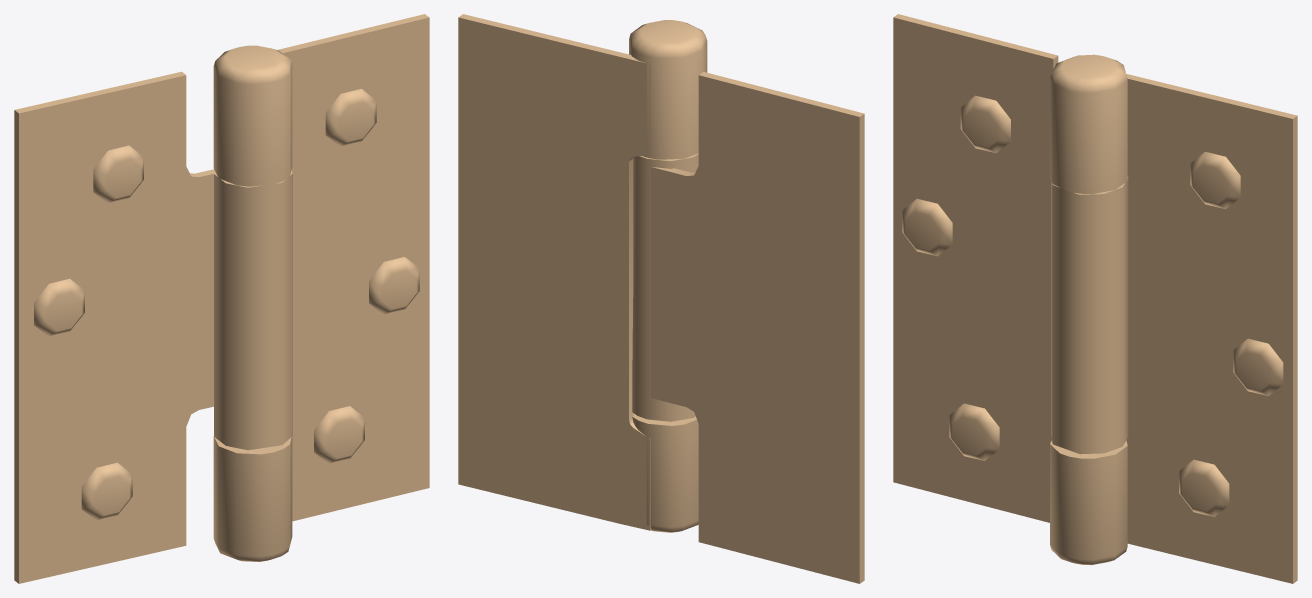
The model's file is Door hinge.fbx.
3 renders of one model, left to right at view 1: azimuth 30°, elevation 25°; view 2: azimuth 150°, elevation 25°; view 3: azimuth 330°, elevation 25°, orthographic.
Visible parts, largest first — view 1: Door_hinge; view 2: Door_hinge; view 3: Door_hinge.
Part boxes in pixels (x1,y1,x2,y2): Door_hinge: (14, 14, 429, 583); Door_hinge: (458, 14, 864, 583); Door_hinge: (893, 14, 1297, 583).
Size of the model in its own units: 9.1 by 10.53 by 1.65.
